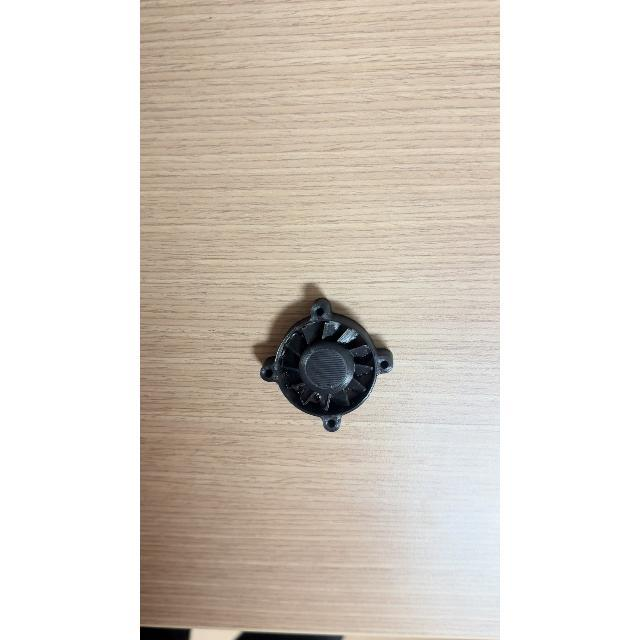Pieza4: (244, 279, 412, 447)
